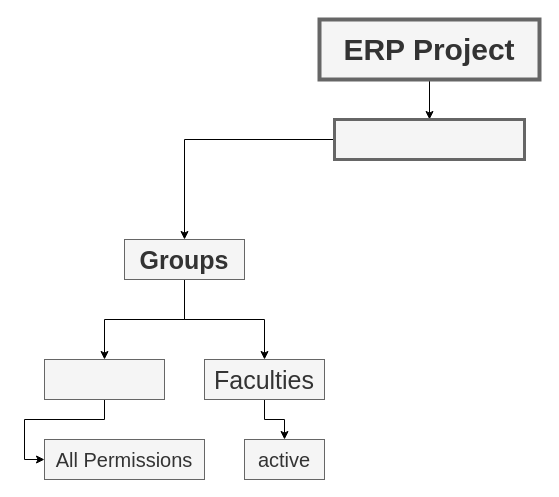
Image size: 559x497. Some labels were removed from this diagram. Each missing label, with the centre of its shape:
"Admins" belongs at (104,379).
"User Model" belongs at (429,139).
